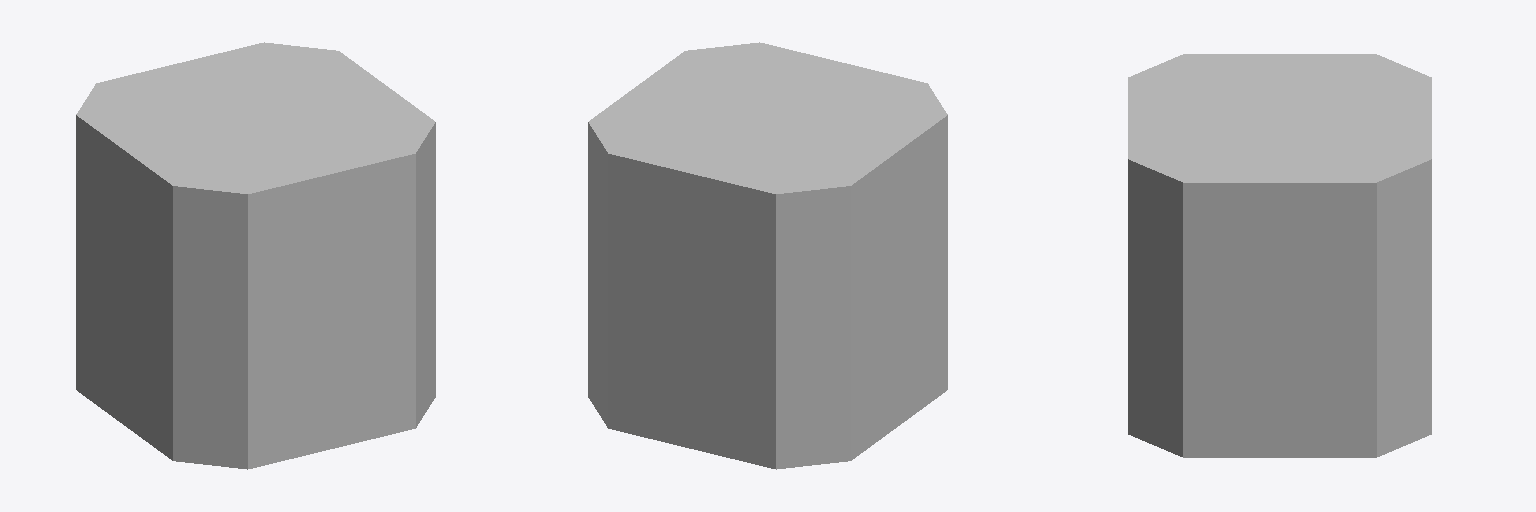
Rendered from SandBagCollisionPaint.obj.
The picture shows the model from 3 angles: view 1: azimuth 30°, elevation 25°; view 2: azimuth 150°, elevation 25°; view 3: azimuth 270°, elevation 25°; orthographic projection.
Visible parts, largest first — view 1: Cube_Cube.001; view 2: Cube_Cube.001; view 3: Cube_Cube.001.
Boxes of the visible parts, <box> form: Cube_Cube.001: <box>76,42,435,469</box>; Cube_Cube.001: <box>588,42,947,469</box>; Cube_Cube.001: <box>1128,54,1431,457</box>.
Bounding box in the file's own units: 1 × 1 × 1.